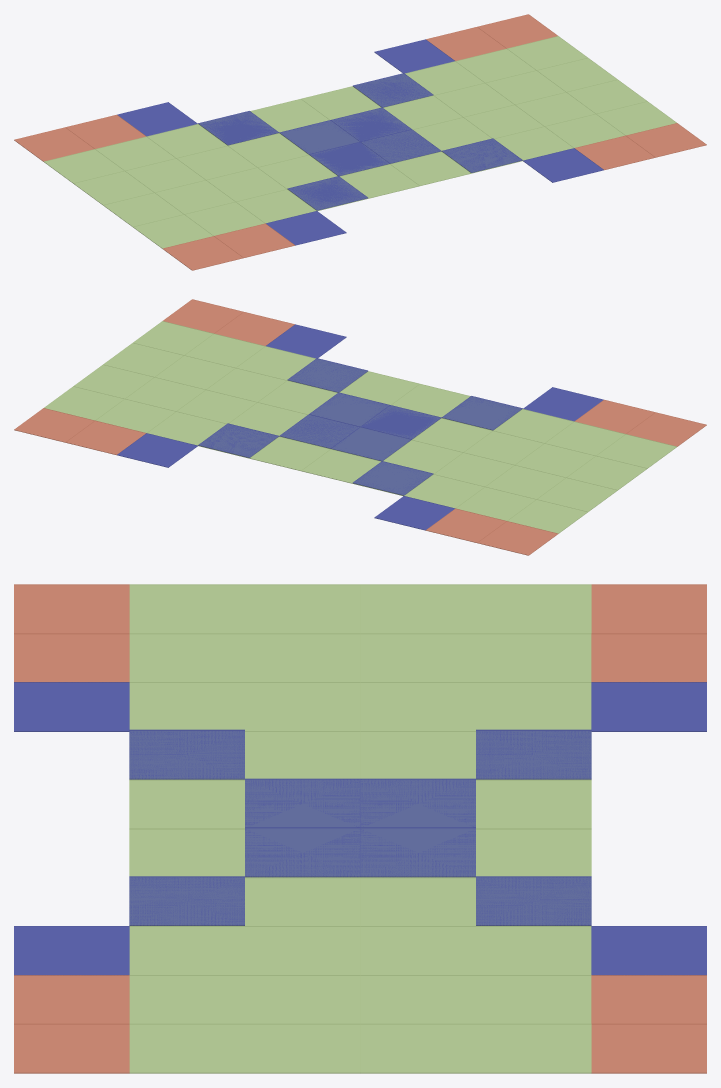
3 views of the same model, one above another, from view 1: azimuth 30°, elevation 25°; view 2: azimuth 150°, elevation 25°; view 3: azimuth 270°, elevation 25° (orthographic). The views are drawn at different scales.
Parts seen in each view (by area): view 1: polySurface533, polySurface461, polySurface473, polySurface532, polySurface534, polySurface535, polySurface539, polySurface538, polySurface464, polySurface528, polySurface474, polySurface468 (+45 smaller); view 2: polySurface532, polySurface500, polySurface507, polySurface533, polySurface534, polySurface535, polySurface536, polySurface458, polySurface502, polySurface508, polySurface531, polySurface537 (+47 smaller); view 3: polySurface464, polySurface466, polySurface501, polySurface534, polySurface535, polySurface537, polySurface465, polySurface467, polySurface509, polySurface538, polySurface459, polySurface460 (+48 smaller).
Boxes of the visible parts, bbox=[...] form: polySurface533: bbox=[441, 138, 522, 172]; polySurface461: bbox=[162, 236, 243, 270]; polySurface473: bbox=[523, 148, 603, 182]; polySurface532: bbox=[353, 73, 433, 107]; polySurface534: bbox=[287, 176, 367, 210]; polySurface535: bbox=[198, 111, 279, 145]; polySurface539: bbox=[309, 141, 390, 176]; polySurface538: bbox=[361, 129, 441, 163]; polySurface464: bbox=[626, 123, 706, 157]; polySurface528: bbox=[390, 151, 471, 185]; polySurface474: bbox=[574, 135, 655, 170]; polySurface468: bbox=[266, 211, 346, 245]; polySurface532: bbox=[198, 423, 279, 457]; polySurface500: bbox=[477, 521, 558, 555]; polySurface507: bbox=[117, 433, 197, 467]; polySurface533: bbox=[287, 358, 367, 392]; polySurface534: bbox=[441, 396, 522, 430]; polySurface535: bbox=[353, 461, 433, 495]; polySurface536: bbox=[330, 426, 411, 461]; polySurface458: bbox=[425, 508, 506, 542]; polySurface502: bbox=[374, 496, 454, 530]; polySurface508: bbox=[65, 420, 146, 455]; polySurface531: bbox=[249, 436, 330, 470]; polySurface537: bbox=[279, 414, 359, 448]; polySurface464: bbox=[14, 1023, 129, 1073]; polySurface466: bbox=[245, 1023, 360, 1073]; polySurface501: bbox=[476, 1023, 591, 1073]; polySurface534: bbox=[129, 729, 244, 779]; polySurface535: bbox=[476, 729, 591, 779]; polySurface537: bbox=[360, 827, 475, 877]; polySurface465: bbox=[129, 1023, 244, 1073]; polySurface467: bbox=[360, 1023, 475, 1073]; polySurface509: bbox=[591, 1023, 706, 1073]; polySurface538: bbox=[245, 827, 360, 877]; polySurface459: bbox=[360, 584, 475, 633]; polySurface460: bbox=[245, 584, 360, 633].
Bounding box in the file's own units: 10 × 0.02 × 6.
